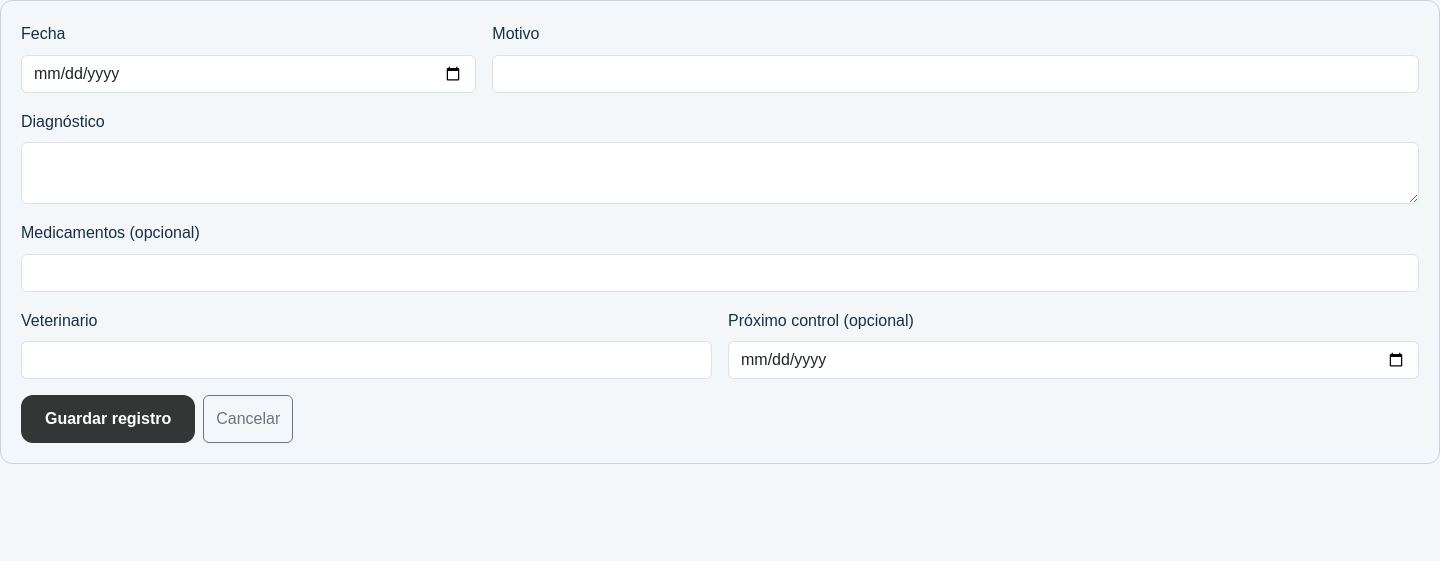
it: FormularioRegistroClinico (consultas) › exige fecha, motivo, diagnóstico y veterinario
What coordinates should you click on to do the following:
click the button "Guardar registro"
I would click on:
 (108, 419)
Its box is [21, 395, 195, 443].
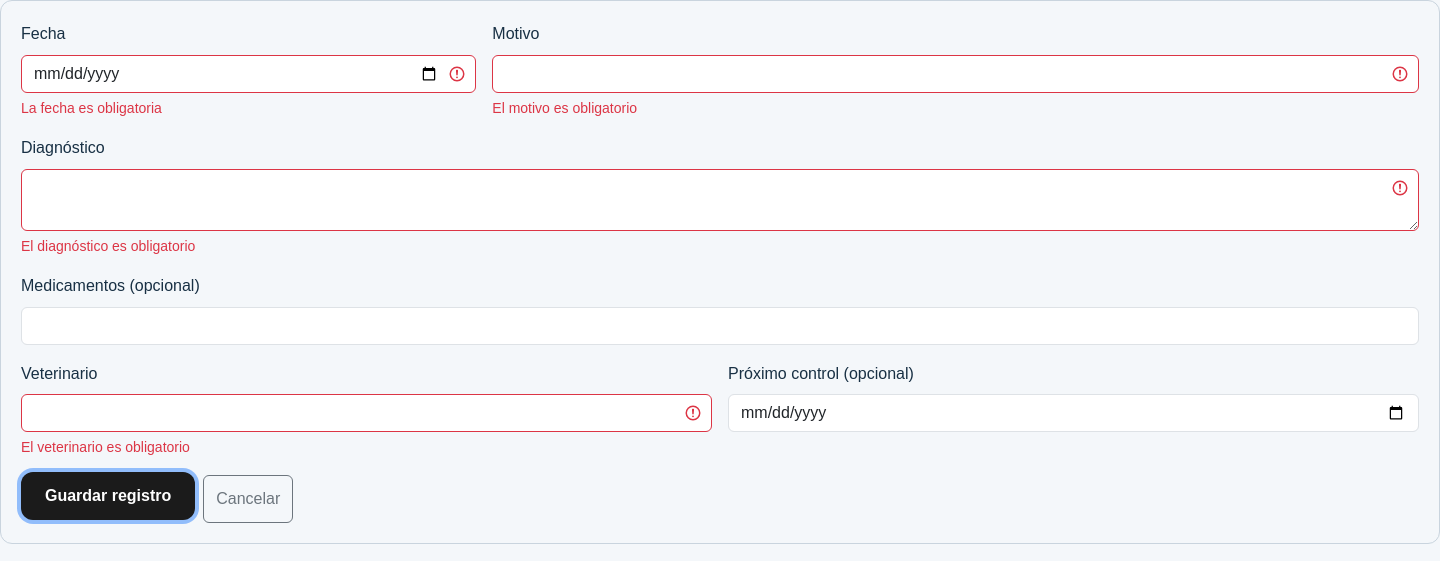
Now the text "La fecha es obligatoria" is shown, box [21, 100, 162, 116]
Now the text "El motivo es obligatorio" is shown, box [492, 100, 637, 116]
Now the text "El diagnóstico es obligatorio" is shown, box [21, 238, 195, 254]
